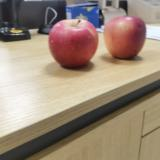apple: (48, 19, 98, 68), (104, 16, 146, 60)
